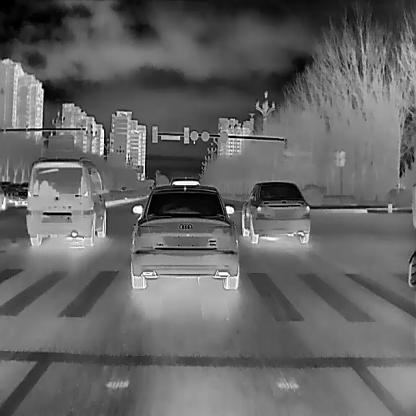car: (128, 178, 240, 289), (25, 155, 106, 247), (241, 179, 311, 243), (13, 181, 31, 207)
light: (150, 126, 160, 144), (183, 123, 189, 147)
sign: (216, 131, 231, 143), (199, 129, 210, 139), (190, 131, 201, 140)
